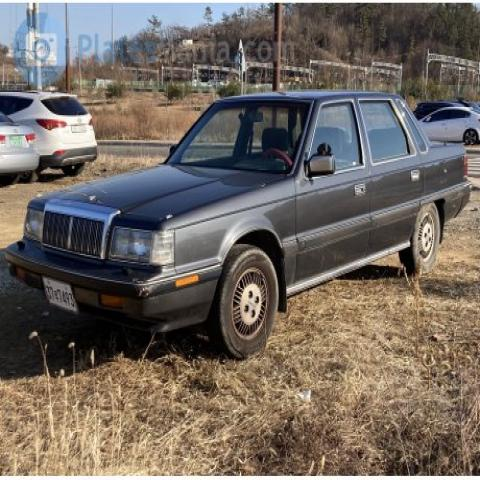LP: (34, 268, 82, 317)
